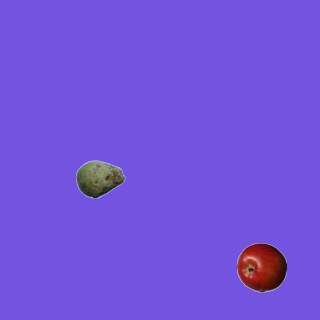Apple Braeburn: (236, 242, 286, 292)
Pear Stone: (75, 154, 125, 204)
